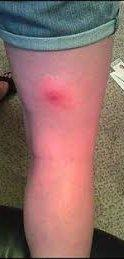Spider: (25, 75, 79, 121)
